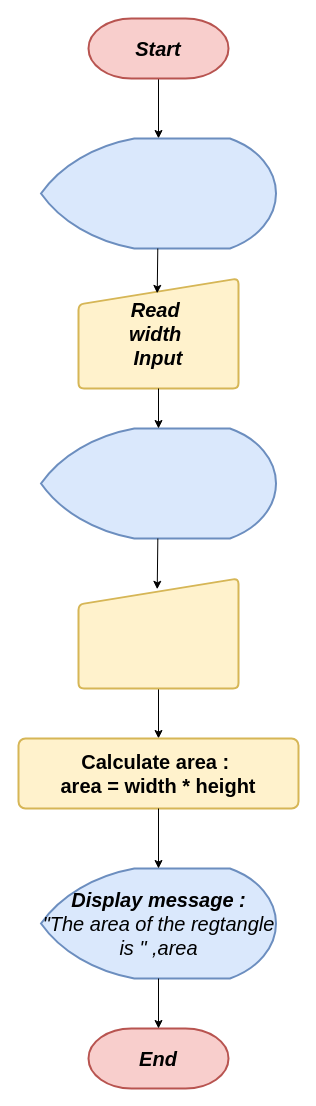
Image size: 316x1106. Some labels were removed from this diagram. Each missing label, with the centre of its shape:
Display message "enter the width of the regtangle": (x=158, y=193)
Display message : "Enter the height of the retangle": (x=158, y=483)
Read Height Input: (x=158, y=633)
